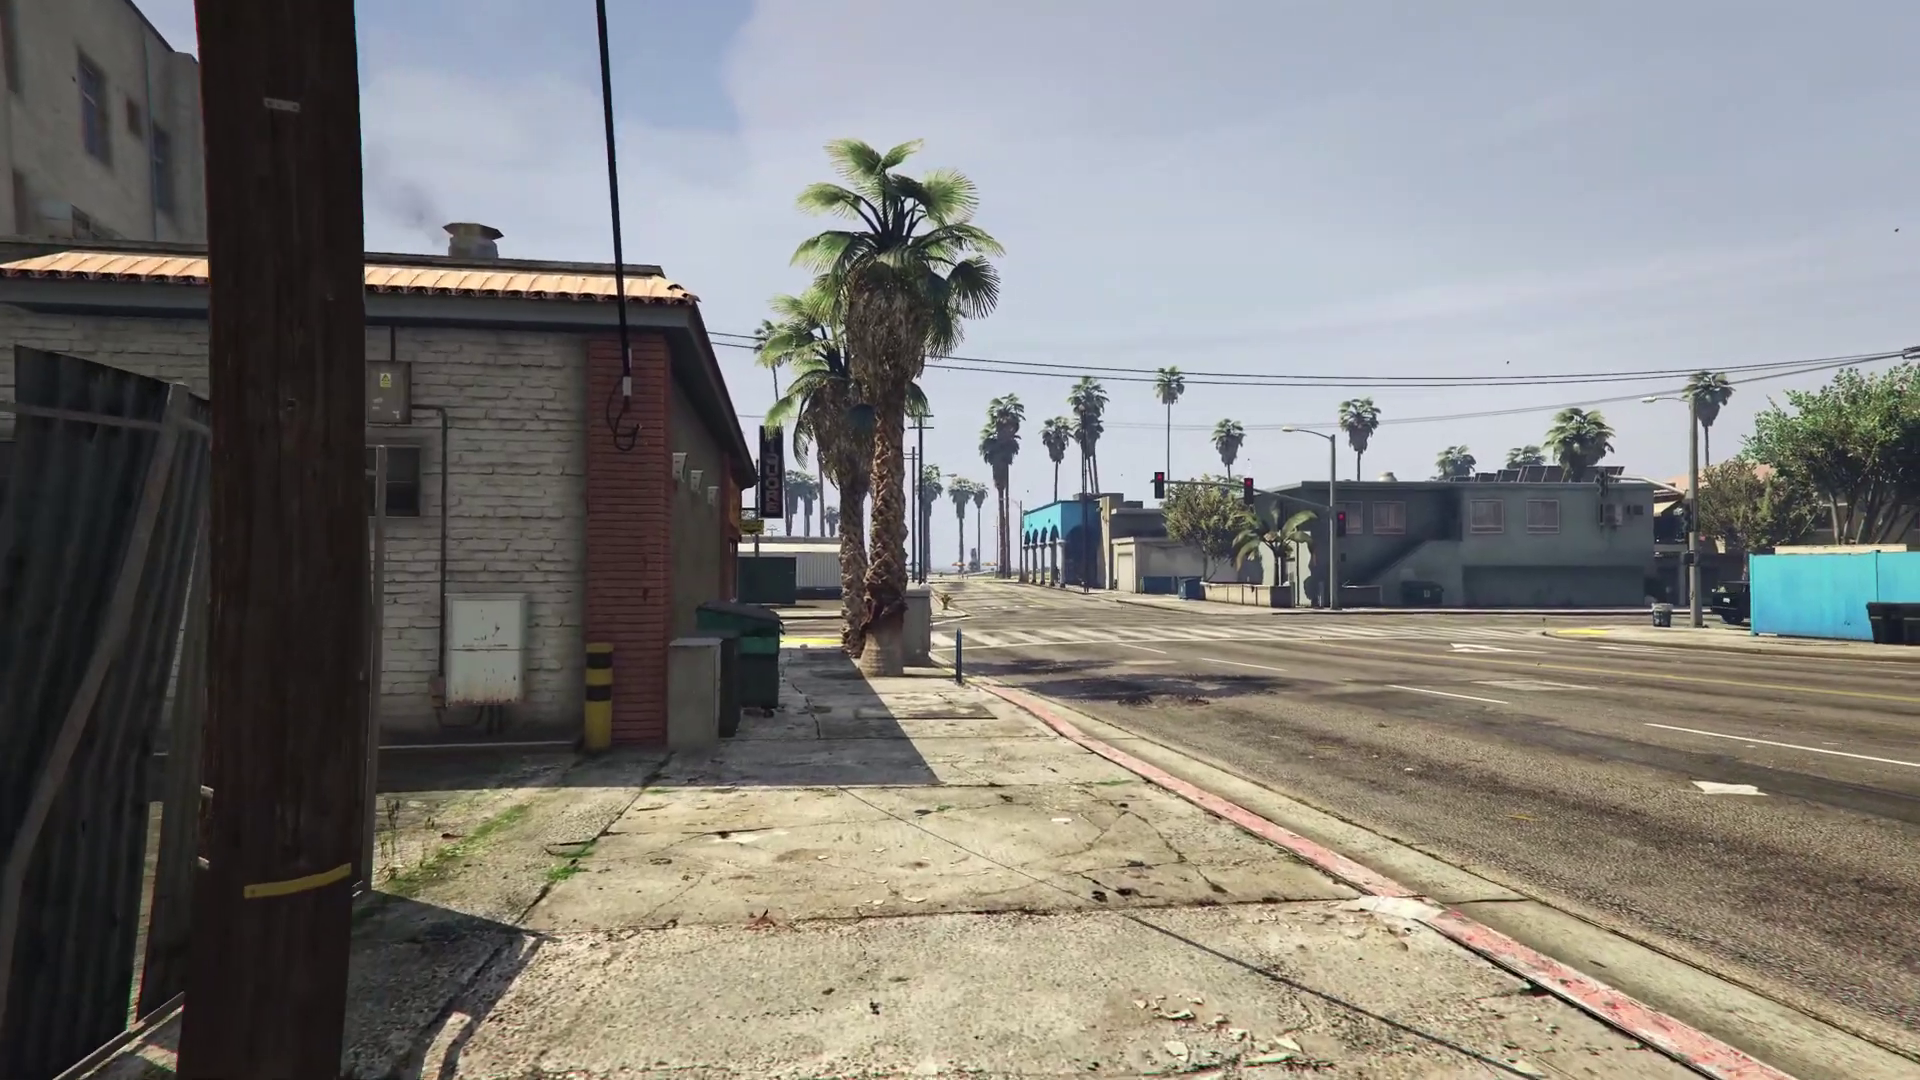traffic light: (1681, 501, 1697, 533), (1596, 467, 1607, 496), (1335, 509, 1345, 535), (1155, 472, 1164, 501), (1244, 477, 1251, 505), (1681, 551, 1693, 564)
